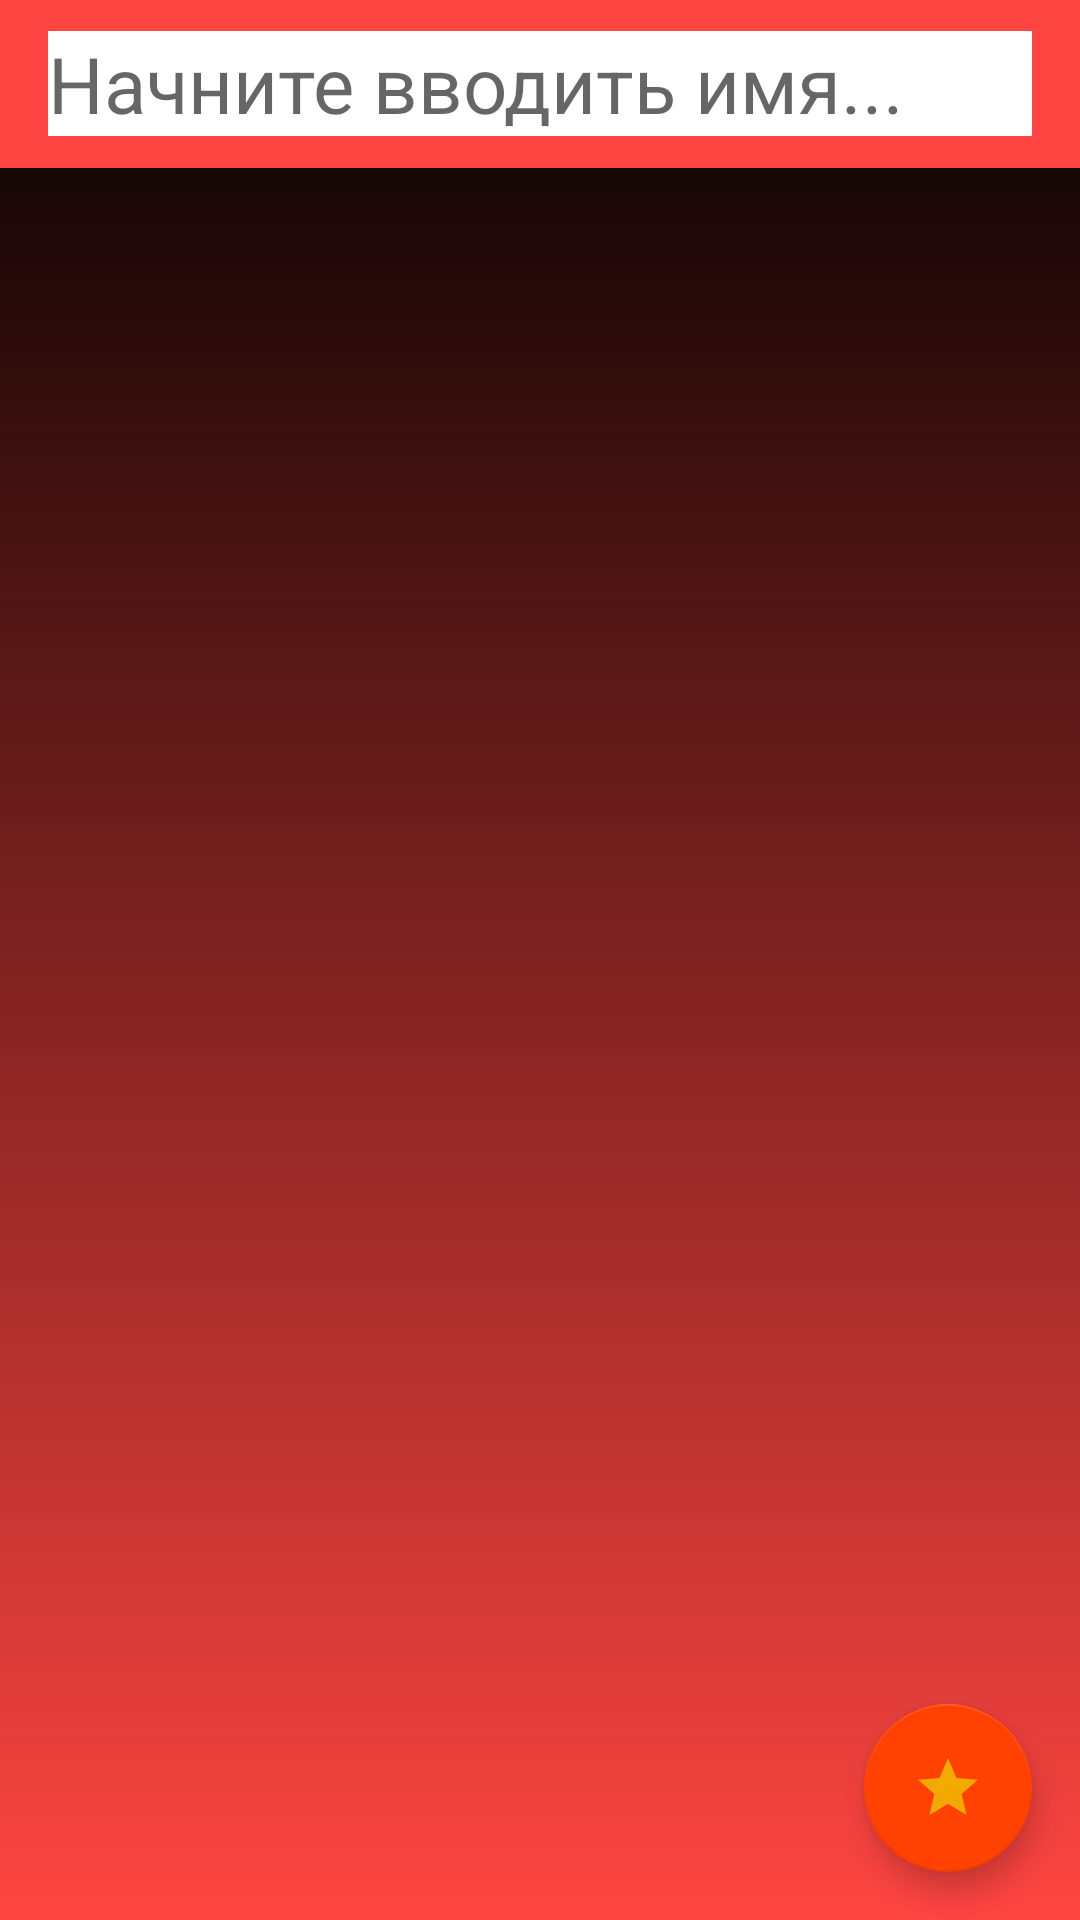

Locate icon controls on the screen. Image size 1080×1920, boxes as (x1, y1, x2, y2).
star: (864, 1704, 1032, 1872)
